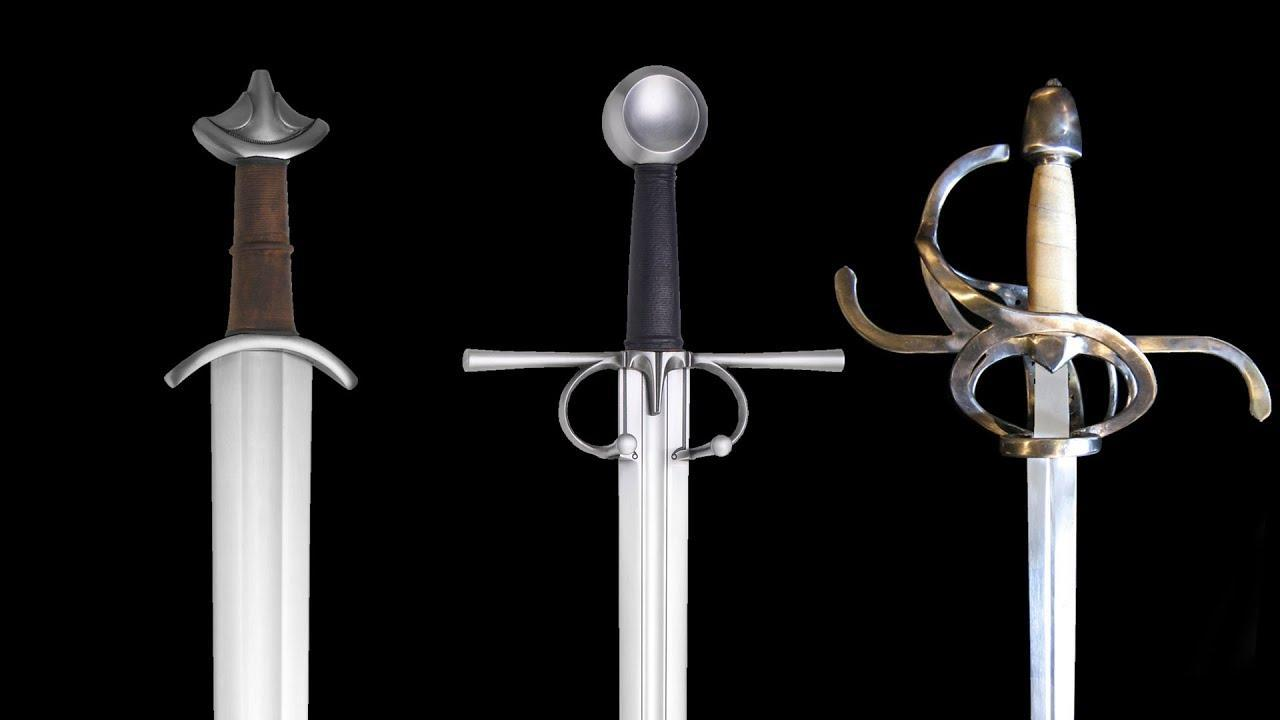espada: (837, 80, 1270, 719), (463, 67, 844, 719), (165, 70, 356, 719)
